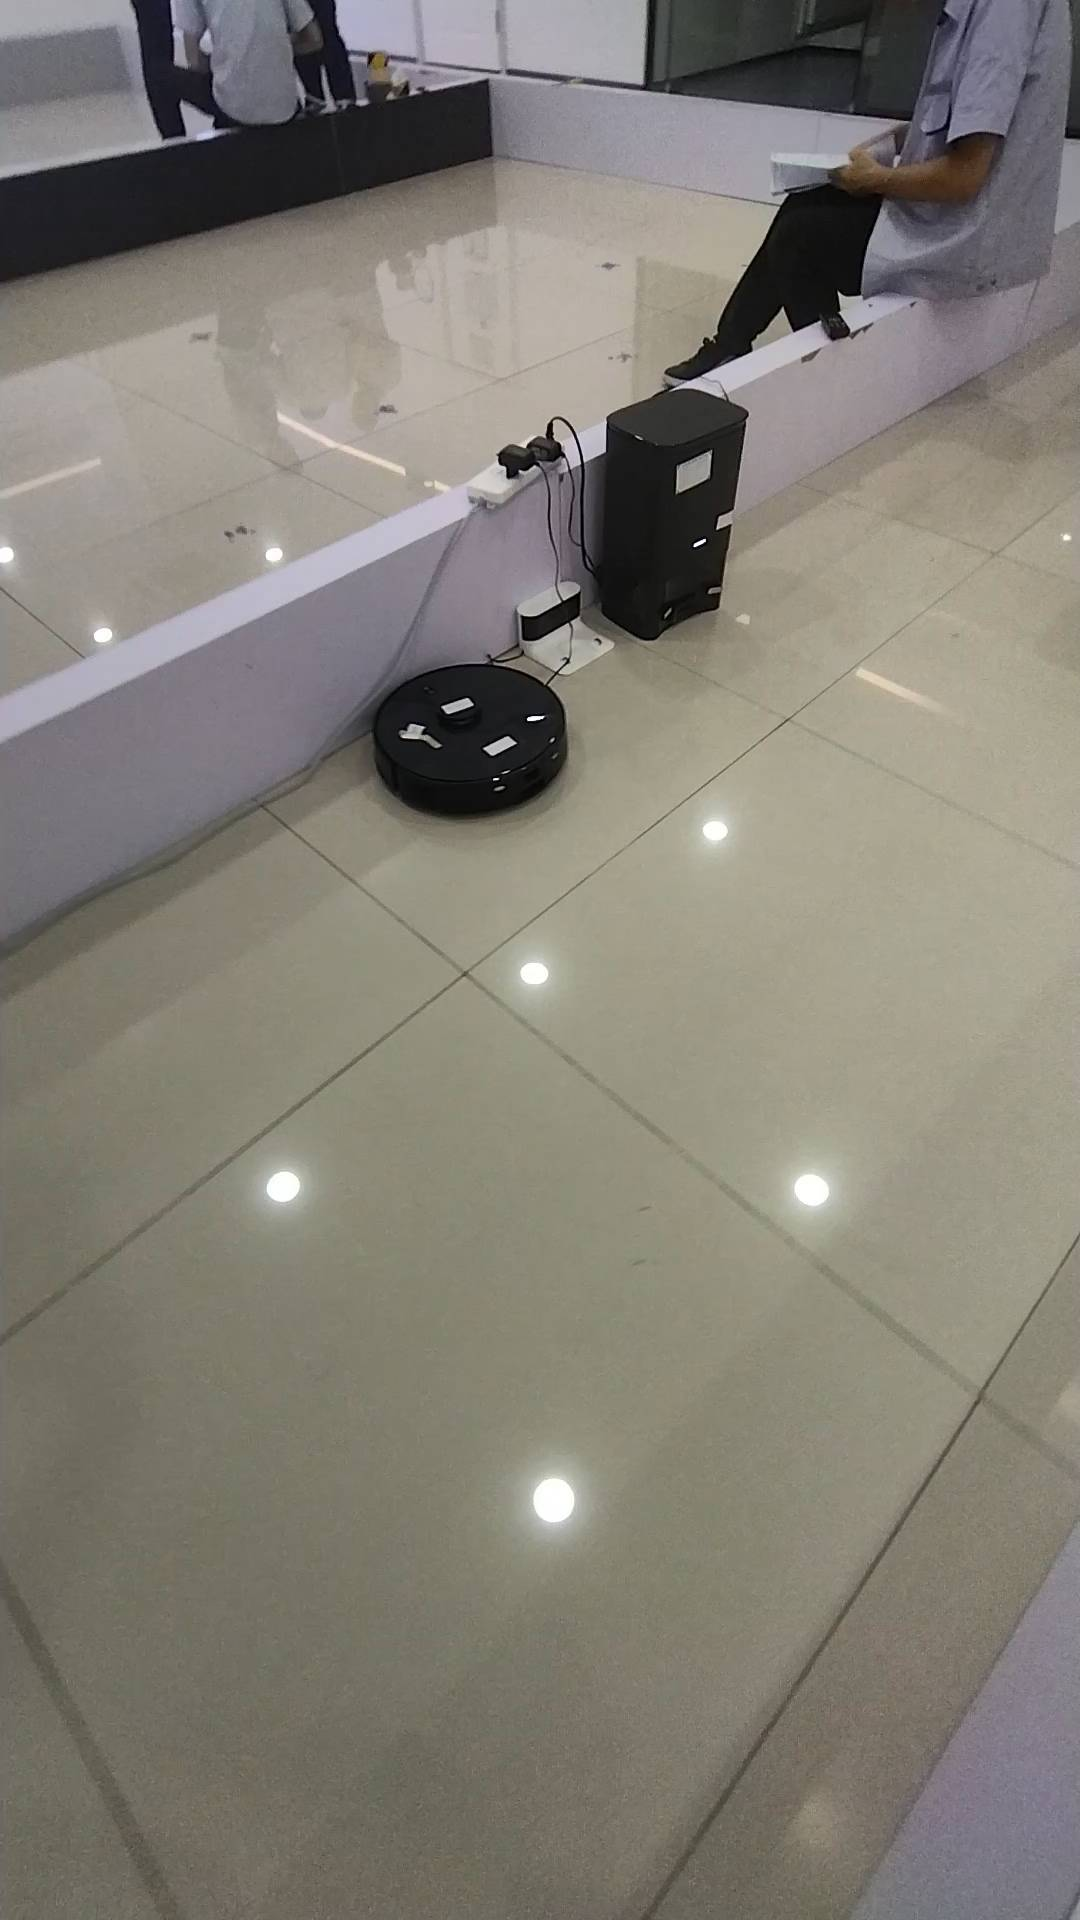dust collecting barrel: (603, 389, 750, 641)
recharge seat: (516, 582, 613, 678)
